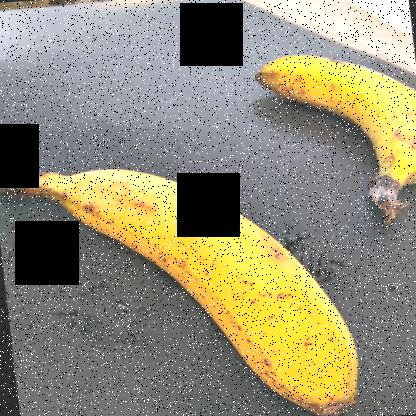ripe: (55, 160, 351, 416), (231, 41, 415, 218)
